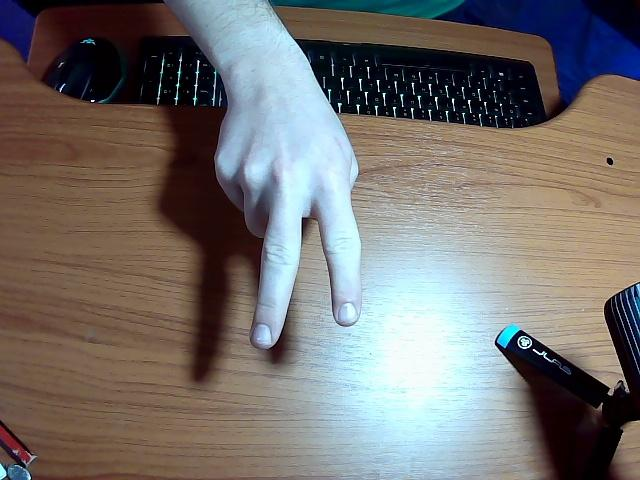scissors: (168, 0, 361, 349)
